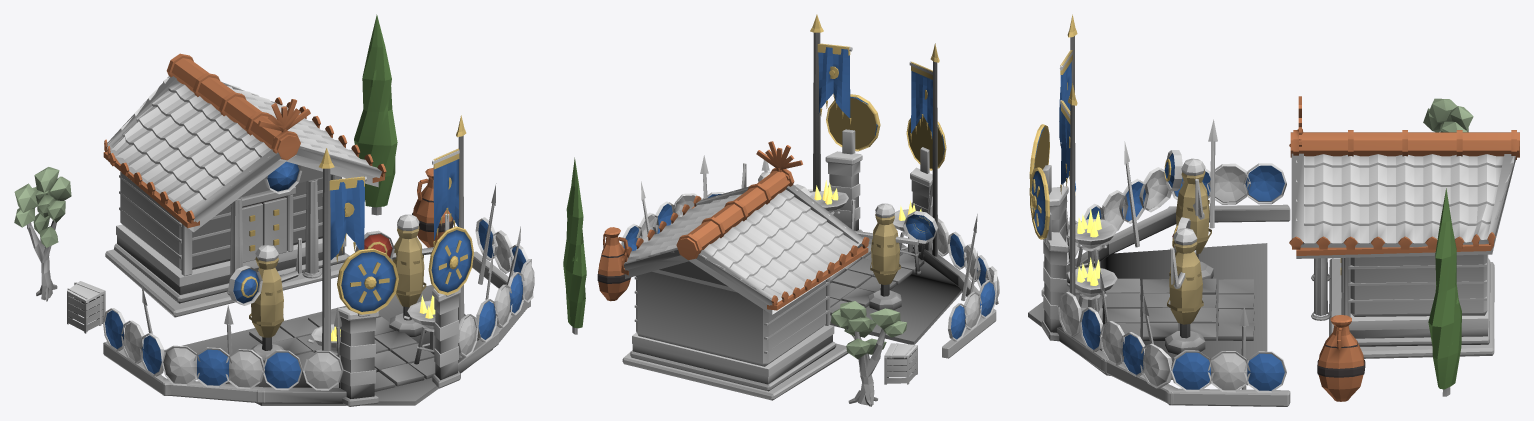
The model's file is shield-camp-l2.glb.
3 renders of one model, left to right at view 1: azimuth 30°, elevation 25°; view 2: azimuth 150°, elevation 25°; view 3: azimuth 270°, elevation 25°, orthographic. The views are drawn at different scales.
Parts seen in each view (by area): view 1: shield-camp-l2; view 2: shield-camp-l2; view 3: shield-camp-l2.
Boxes of the visible parts, x1,y1,x2,y2 form: shield-camp-l2: (14, 14, 534, 406); shield-camp-l2: (563, 14, 999, 406); shield-camp-l2: (1028, 14, 1519, 406).
Size of the model in its own units: 1.56 by 0.9747 by 1.62.
